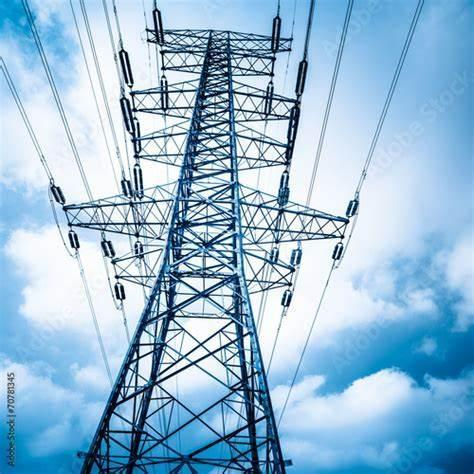power_tower: (50, 19, 354, 474)
